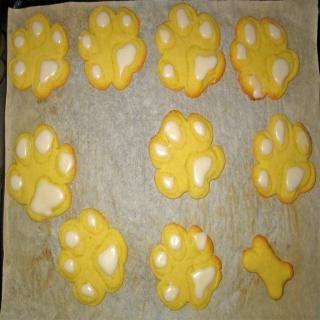Cookie: (153, 2, 226, 100), (57, 206, 128, 306), (150, 109, 227, 200), (6, 122, 76, 222), (150, 224, 222, 312), (79, 5, 147, 91), (252, 115, 318, 202), (228, 17, 298, 98), (7, 13, 69, 99), (243, 234, 293, 302)
